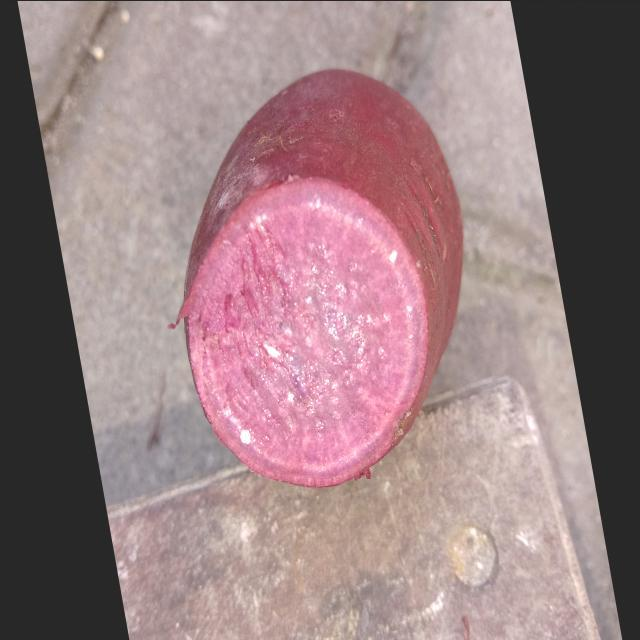Healthy Sweet Potato: (180, 180, 428, 485)
